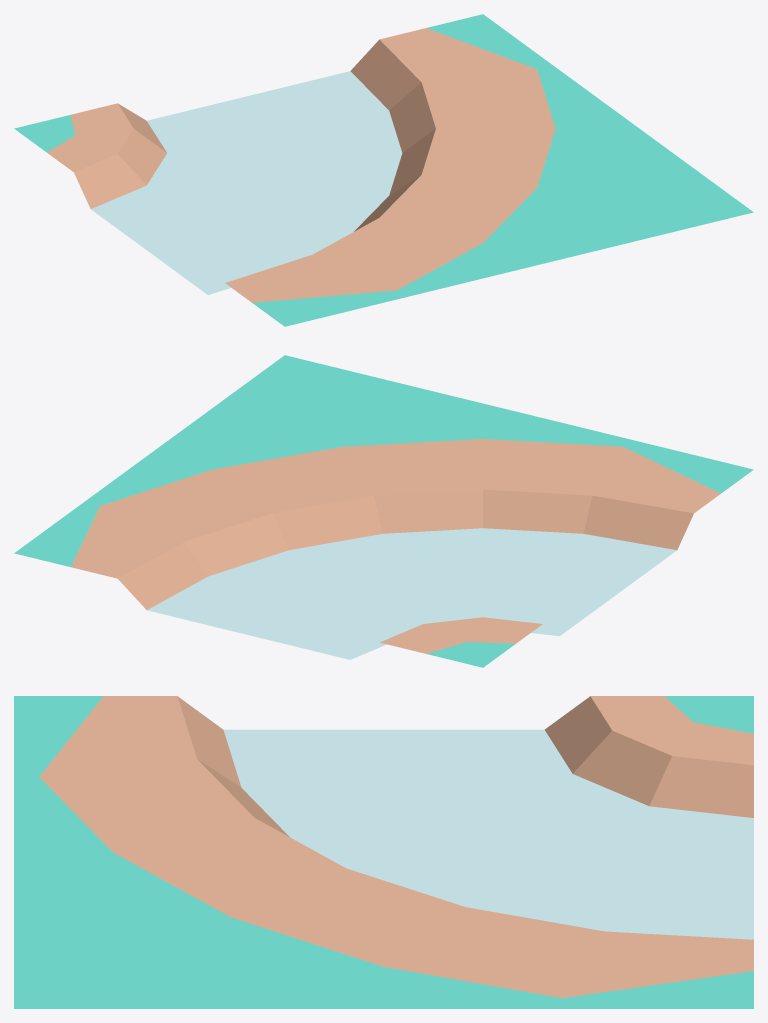
File: ground_riverBendBank.gltf
3 renders of one model, top to bottom at view 1: azimuth 30°, elevation 25°; view 2: azimuth 150°, elevation 25°; view 3: azimuth 270°, elevation 25°, orthographic. The views are drawn at different scales.
Visible parts, largest first — view 1: ground_riverBendBank; view 2: ground_riverBendBank; view 3: ground_riverBendBank.
Part boxes in pixels (<box>): ground_riverBendBank: <box>14,14,753,326</box>; ground_riverBendBank: <box>14,355,753,667</box>; ground_riverBendBank: <box>14,696,753,1008</box>.
Bounding box in the file's own units: 1 × 0.05 × 1.
